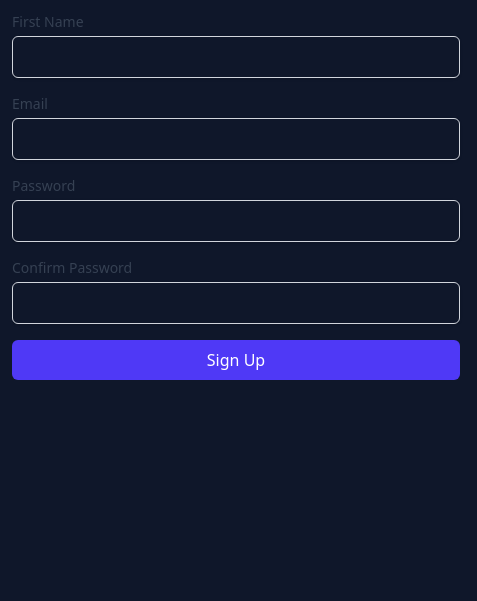
Test: SignUpForm › shows error when password is too short
Type "Jane" into the field labelled "First Name" at [236, 57], box x1=12 y1=36 x2=460 y2=78
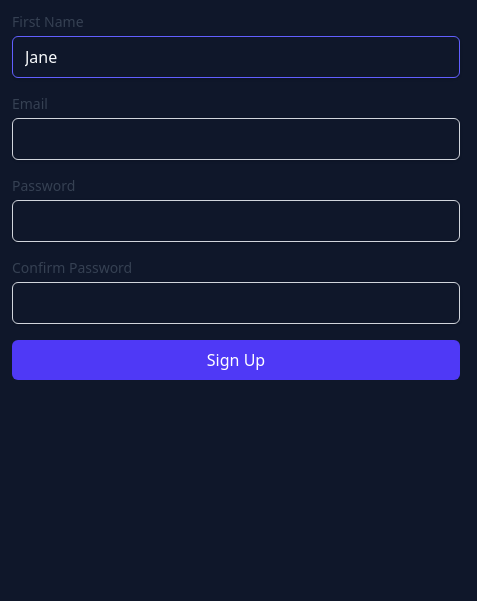
Type "test@example.com" into the field labelled "Email" at [236, 139], box x1=12 y1=118 x2=460 y2=160
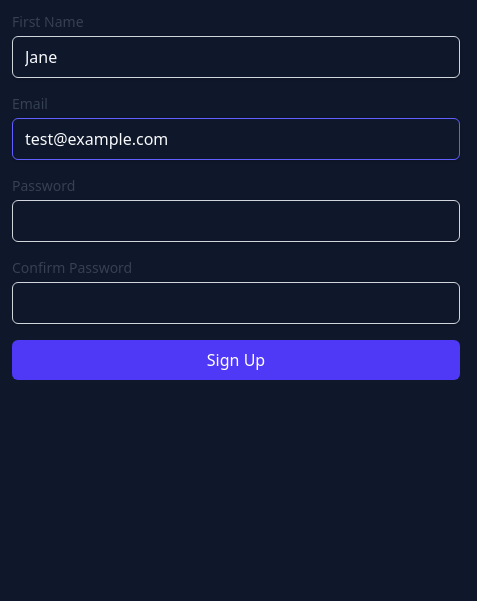
Type "short" into the password field labelled "Password" at [236, 221], box x1=12 y1=200 x2=460 y2=242
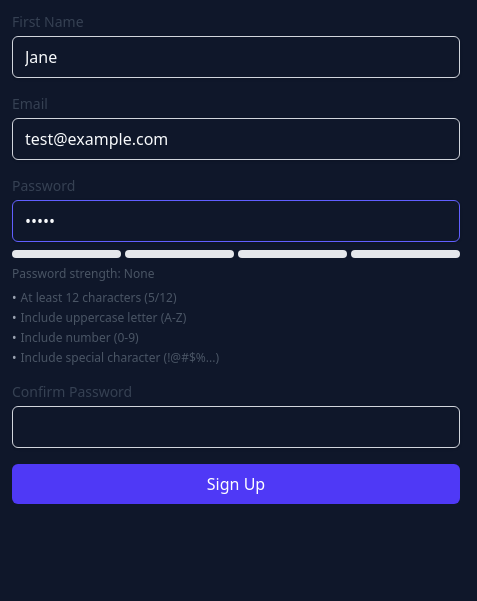
Type "short" into the password field labelled "Confirm Password" at [236, 427], box x1=12 y1=406 x2=460 y2=448
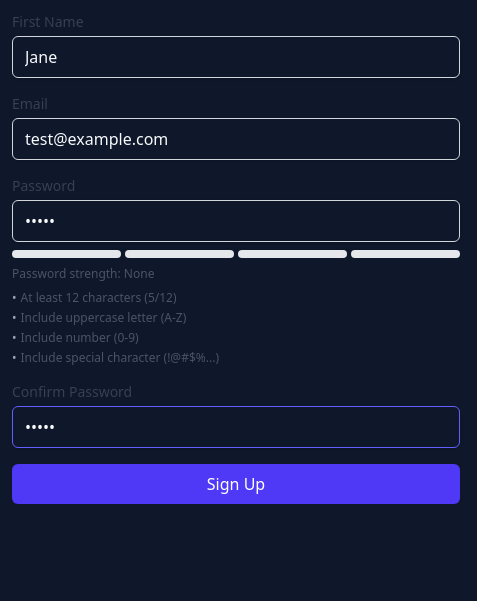
Submit the form labelled "Password"
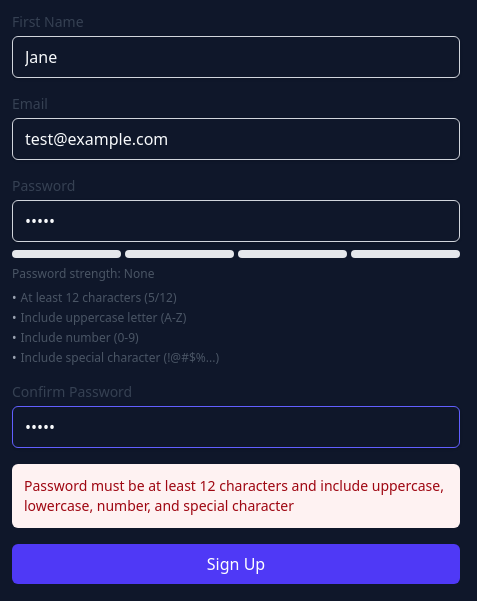
expect the text "Password must be at least 12 characters and include uppercase, lowercase, number, and special character" is shown: met, box x1=24 y1=476 x2=444 y2=515
